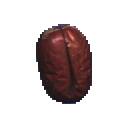ng: (29, 19, 104, 111)
